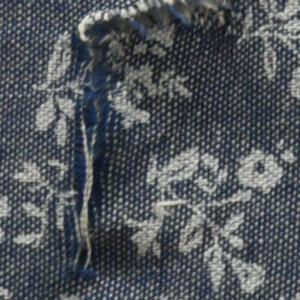Damage: (35, 1, 243, 286)
